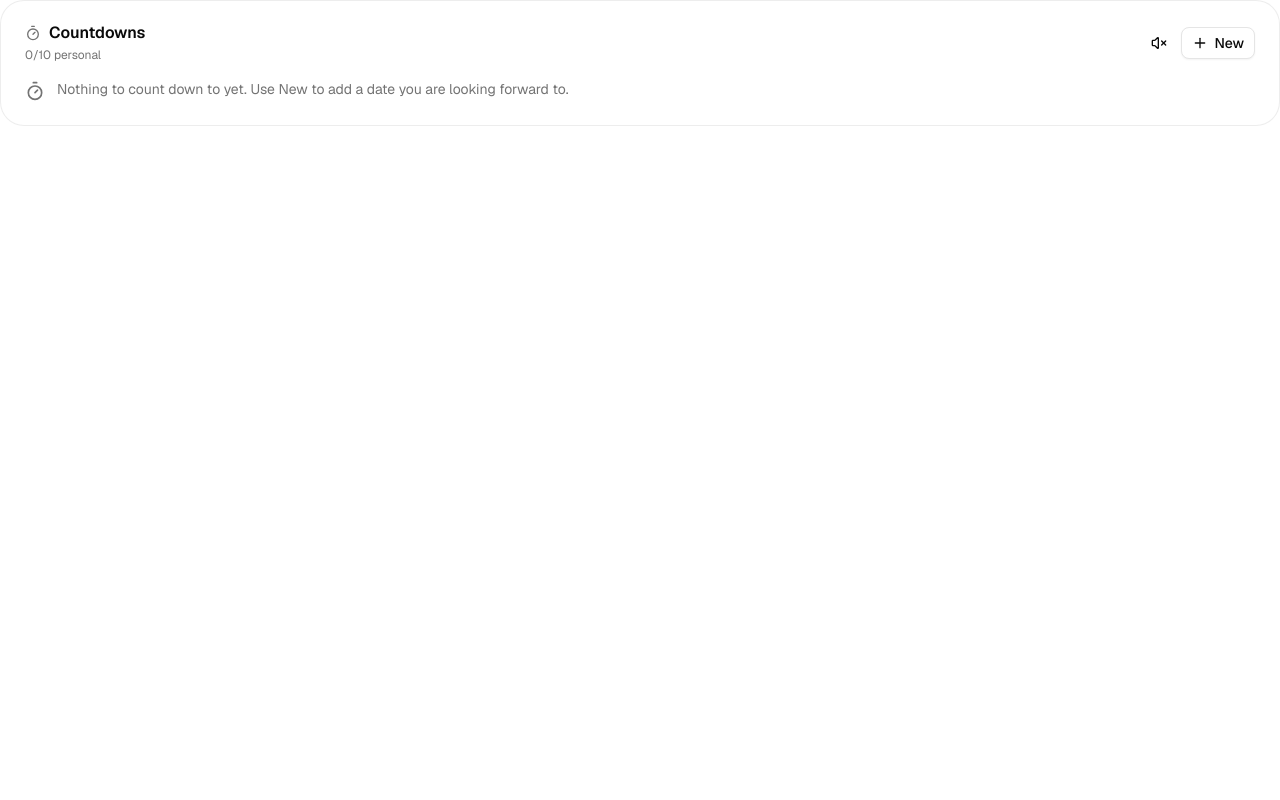
CountdownsCard › opens the new-countdown dialog and refreshes when it closes
Click the button with aria-label "New countdown" at x=1218, y=43, box [1181,27,1255,59]
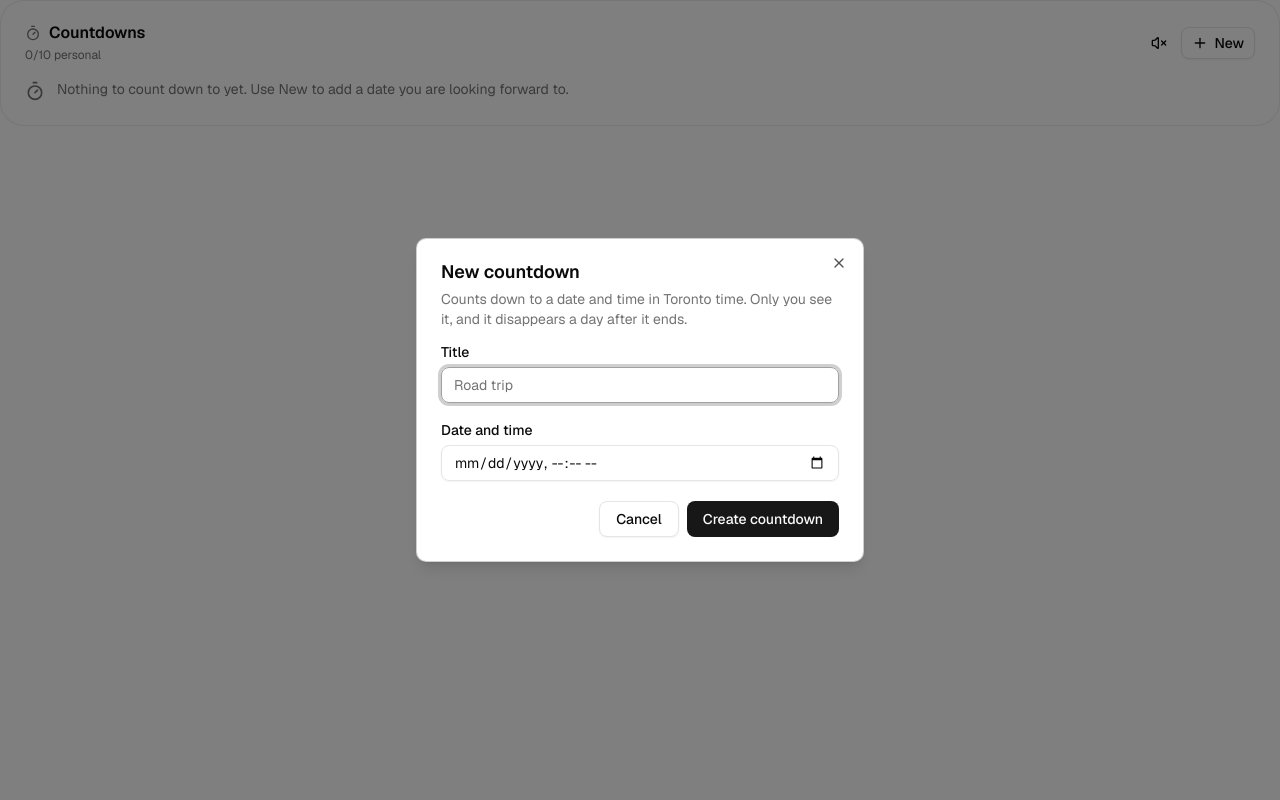
Now the heading "New countdown" is shown, box [441,260,580,283]
Click the button "Cancel" at x=639, y=519, box [599,501,679,537]
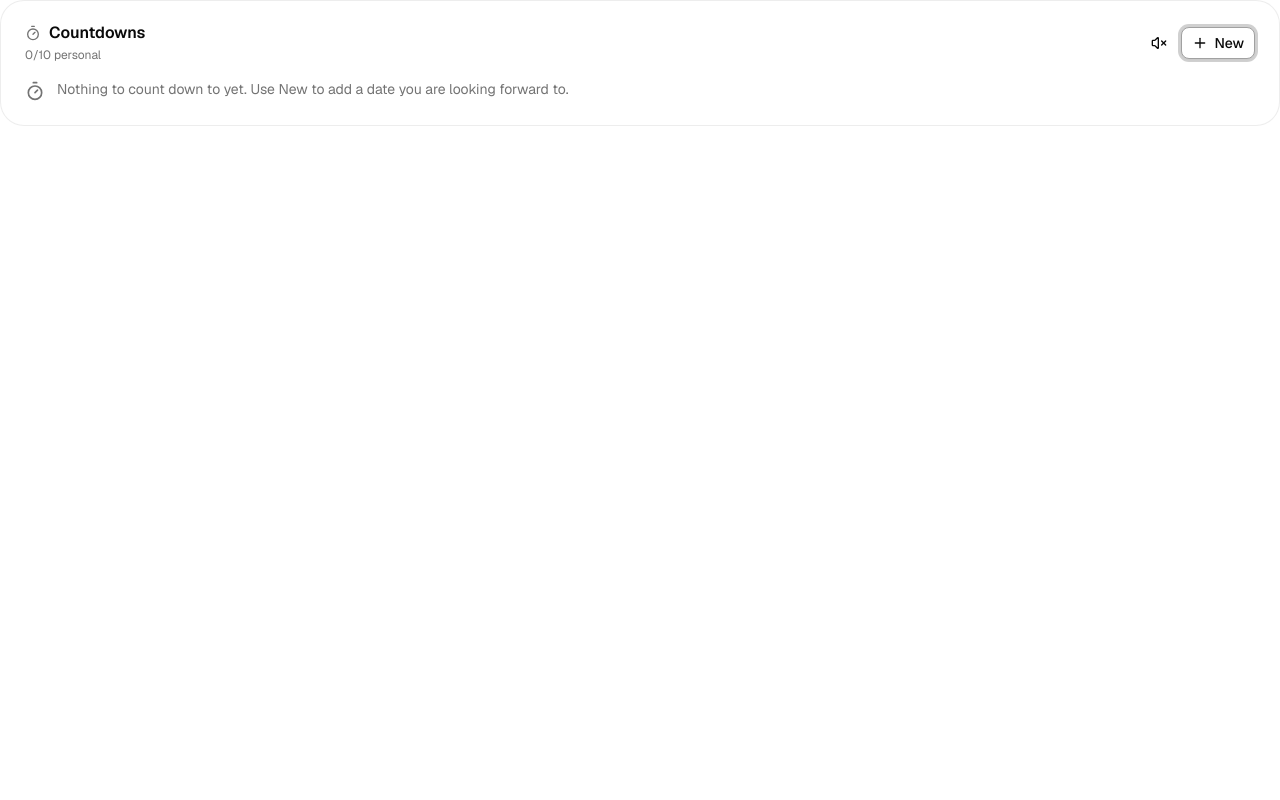
Now the heading "New countdown" is gone
